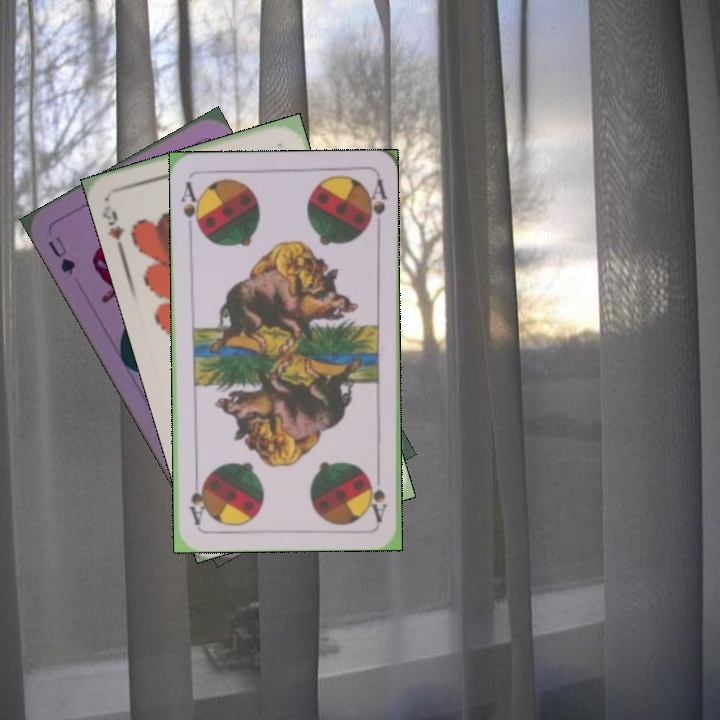GU: (44, 232, 78, 278)
H9: (98, 201, 127, 256)
SA: (177, 178, 204, 236), (366, 465, 390, 524)
